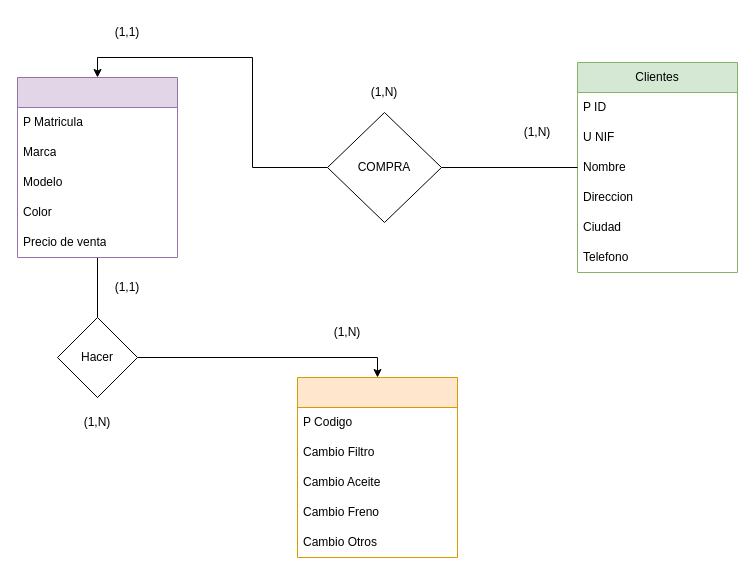
The diagram is 755 pixels wide and 575 high, and some of its shapes have lost their labels. Here are the shapes that lost their labels. From the top down, the box of each, then its label:
(16, 76, 178, 258): Coches
(296, 376, 458, 558): Revision
